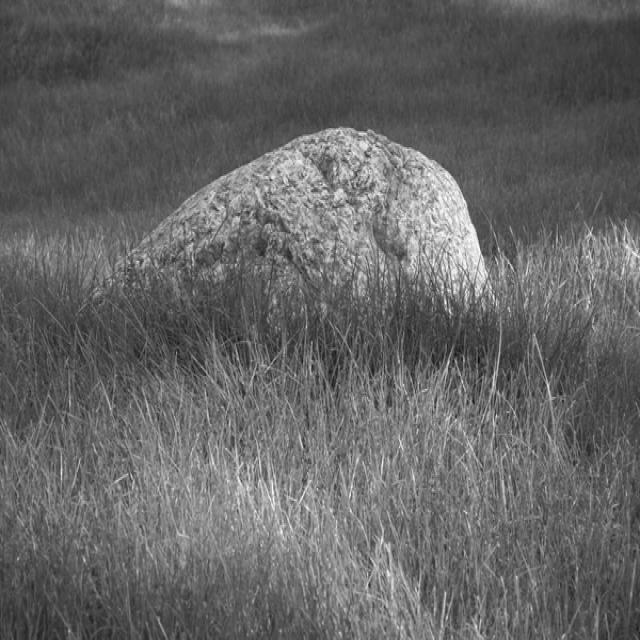Stone: (92, 128, 490, 306)
